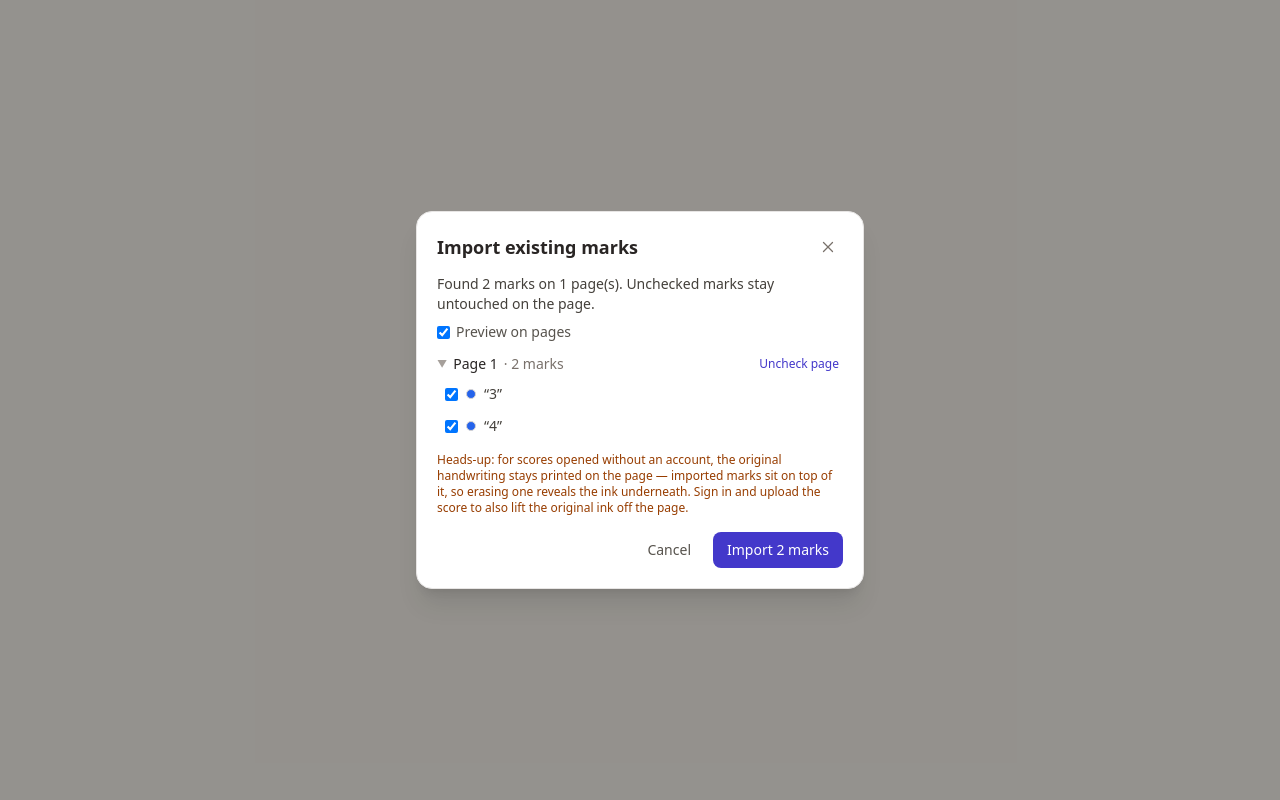
Test: ImportReviewPanel › scans, previews via the history overlay, and imports checked marks
This screenshot has width=1280, height=800.
Expected: the text "Found" is shown, [437,274,482,293]
Click the button "Import 2 marks". click: (778, 550)
box: [713,532,843,568]
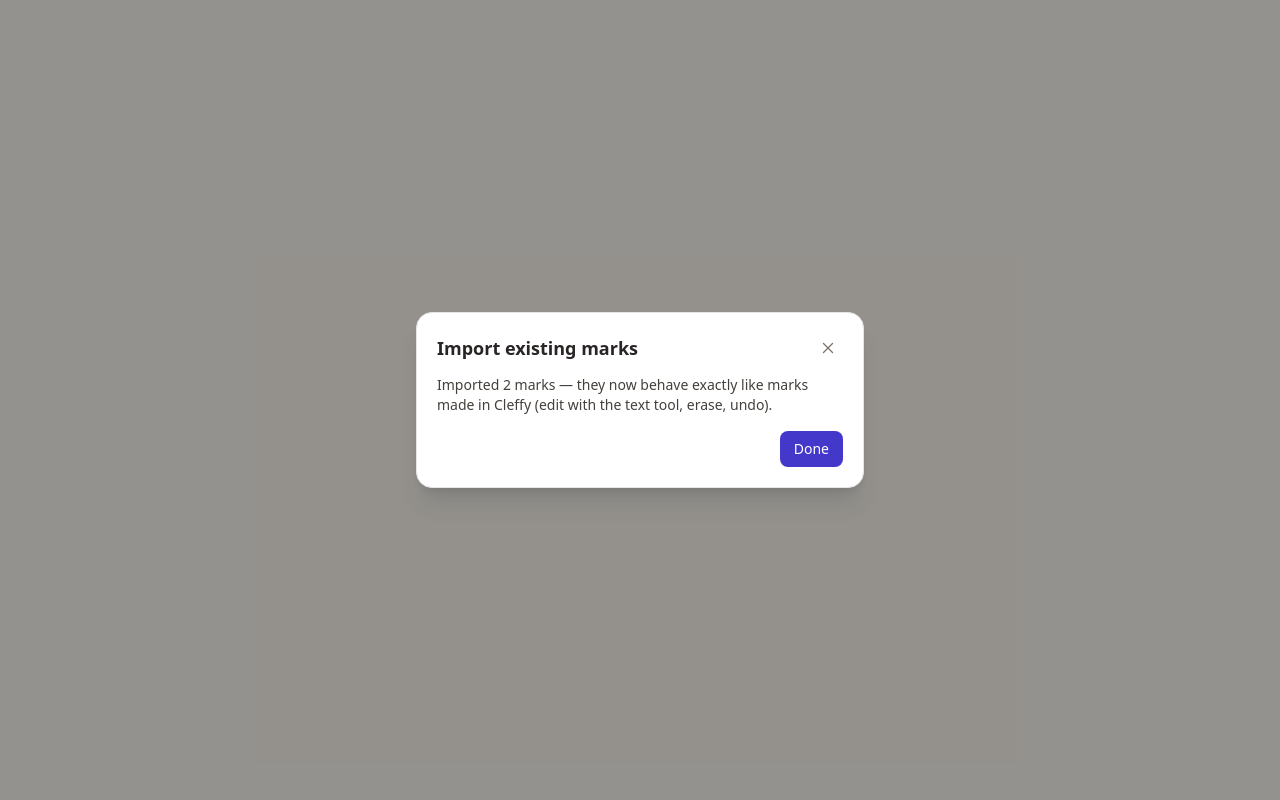
Expected: the text "Imported 2 marks" is shown, [437,375,843,415]
